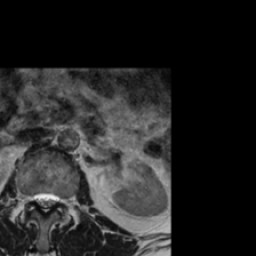CCS_normal: (41, 186, 49, 220)
LFS_stenosis: (57, 189, 64, 212)
LLS_normal: (49, 186, 57, 209)
RFS_stenosis: (24, 188, 33, 208)
RLS_normal: (33, 186, 41, 213)
